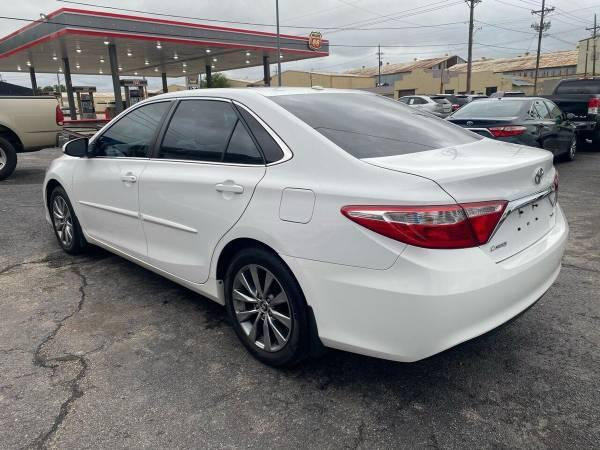Front_Fender: (41, 154, 78, 217)
Front_Left_Door: (71, 157, 148, 266)
Front_Left_Window: (79, 101, 172, 158)
Left_Taillight: (340, 194, 508, 247)
Rear_Bumper: (286, 199, 571, 362)
Rear_Fender: (224, 99, 455, 268)
Rear_Left_Door: (137, 159, 267, 300)
Rear_Left_Window: (147, 97, 265, 164)
Rear_Windshield: (271, 88, 483, 157)
Roof: (85, 84, 356, 155)
Tailgate: (367, 137, 558, 260)
Wheel: (223, 248, 307, 364), (47, 188, 80, 253)
